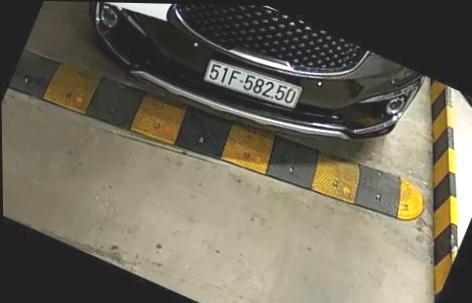License_Plate: (204, 55, 303, 112)
